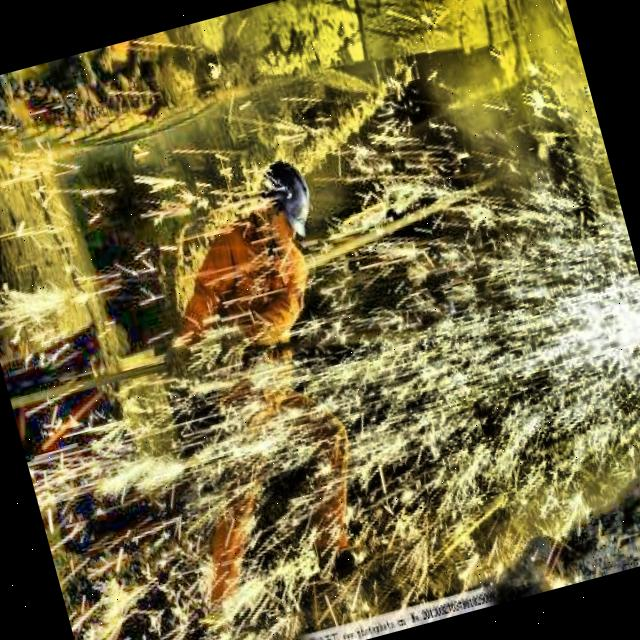helmet: (240, 145, 324, 264)
